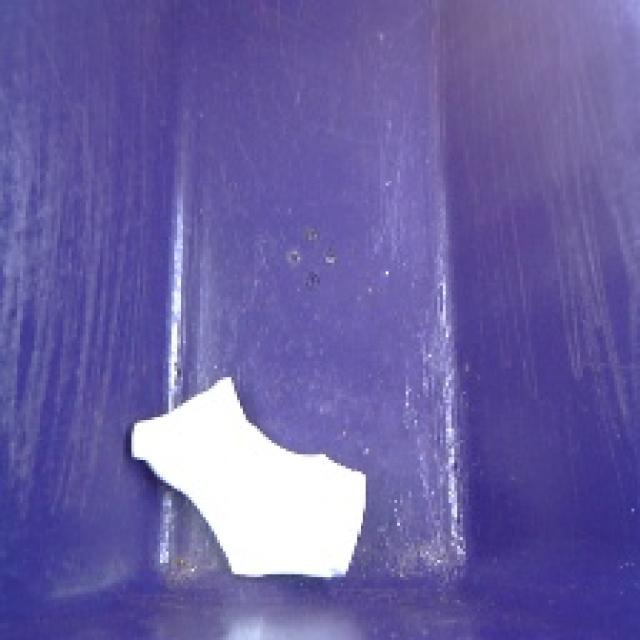china: (116, 371, 379, 594)
